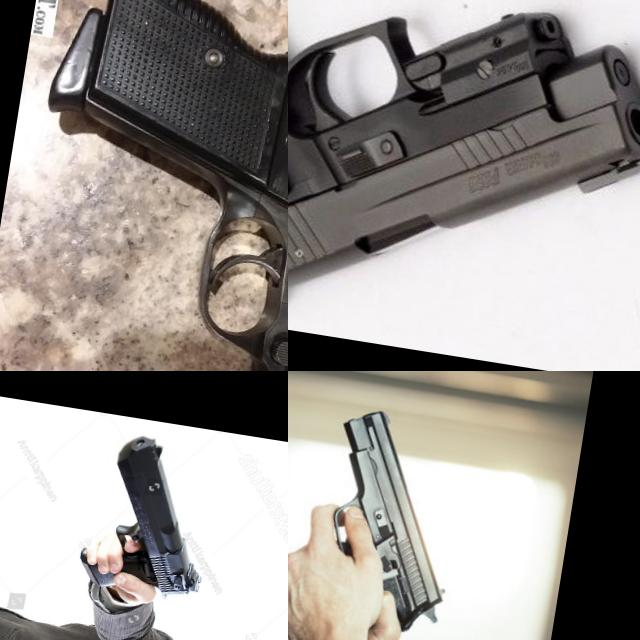handgun: (288, 0, 640, 371), (0, 0, 288, 371), (304, 399, 476, 640), (70, 423, 226, 609)
